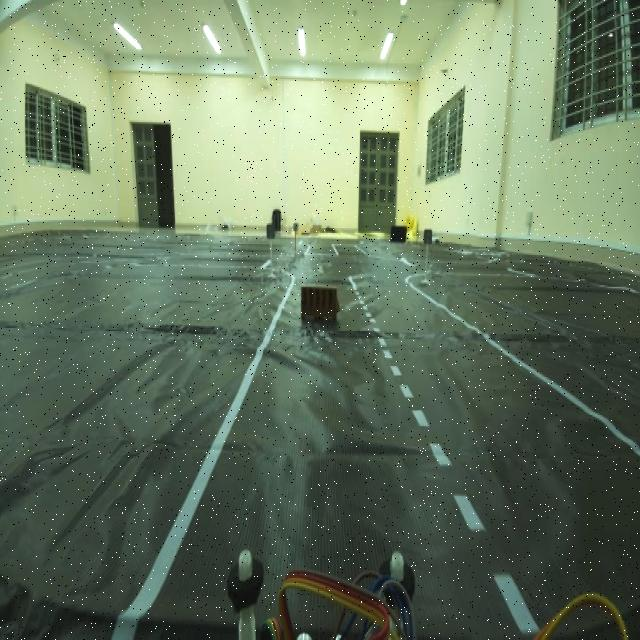roadblock: (296, 280, 352, 331)
